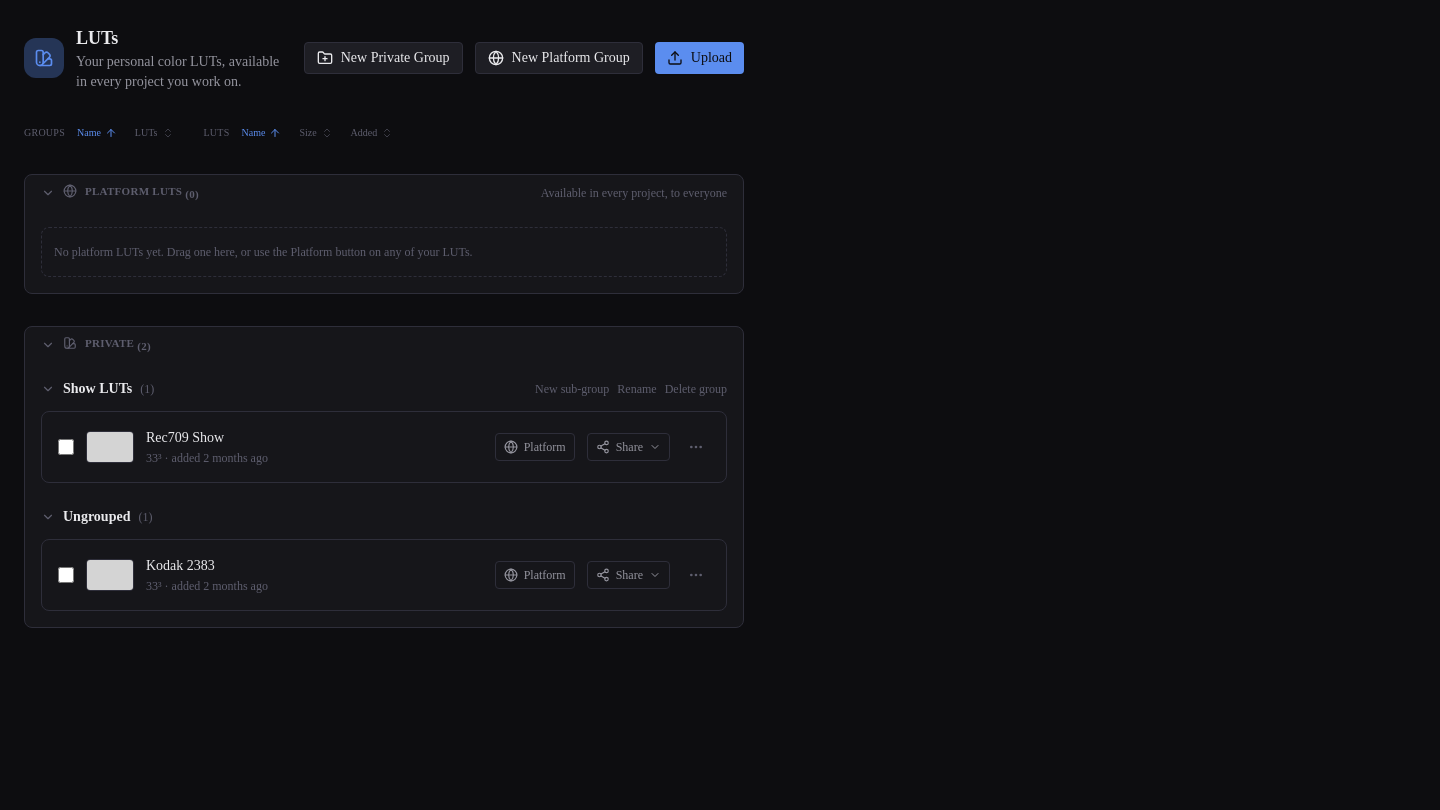
Test case: multi-file upload › uploads every picked file and refreshes once
Check: the heading "Kodak 2383" is shown, box x1=146 y1=556 x2=215 y2=576
Click the button "Upload" at (699, 58), box x1=655 y1=42 x2=744 y2=74
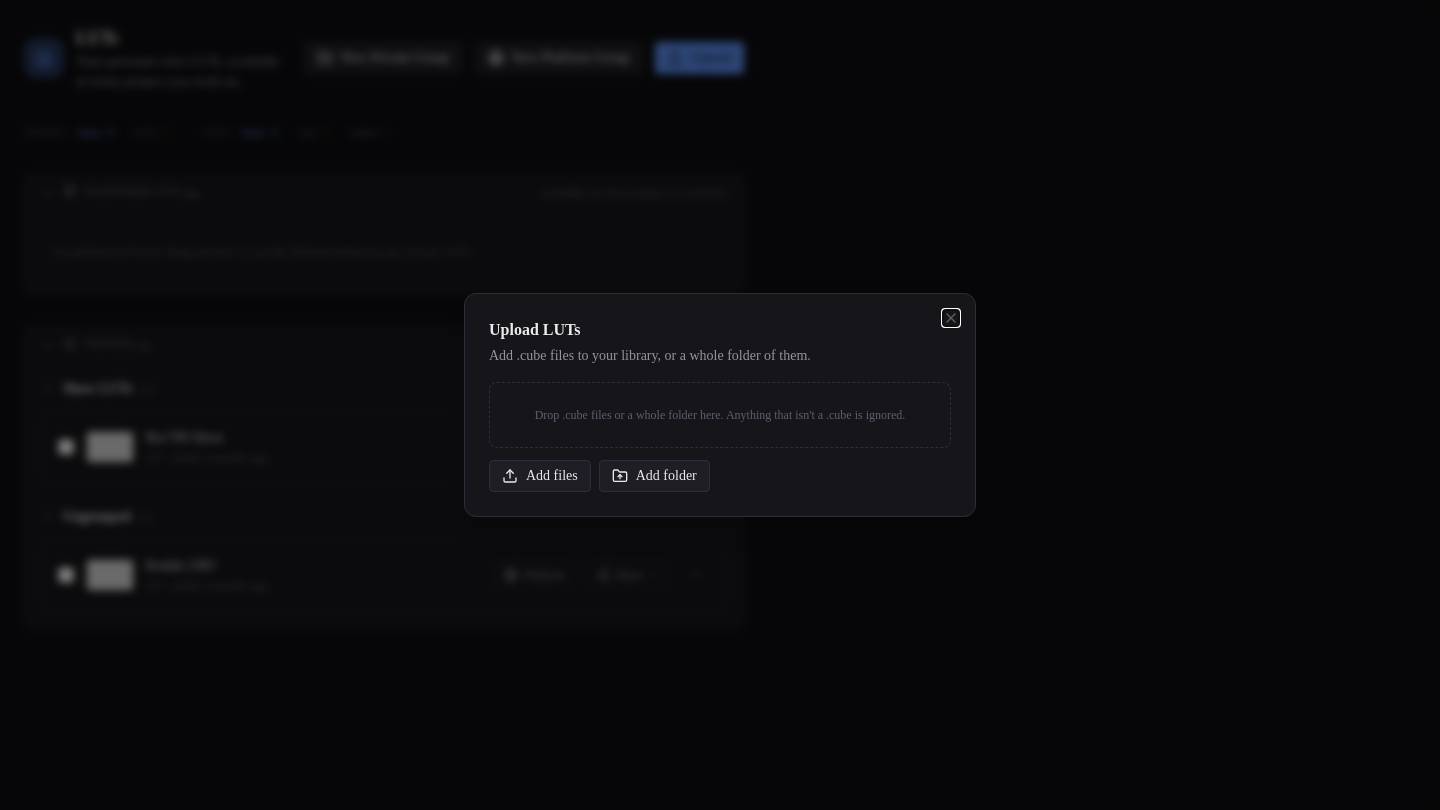
Check: the text with test id "lut-drop-zone" is shown, box x1=489 y1=382 x2=951 y2=448
